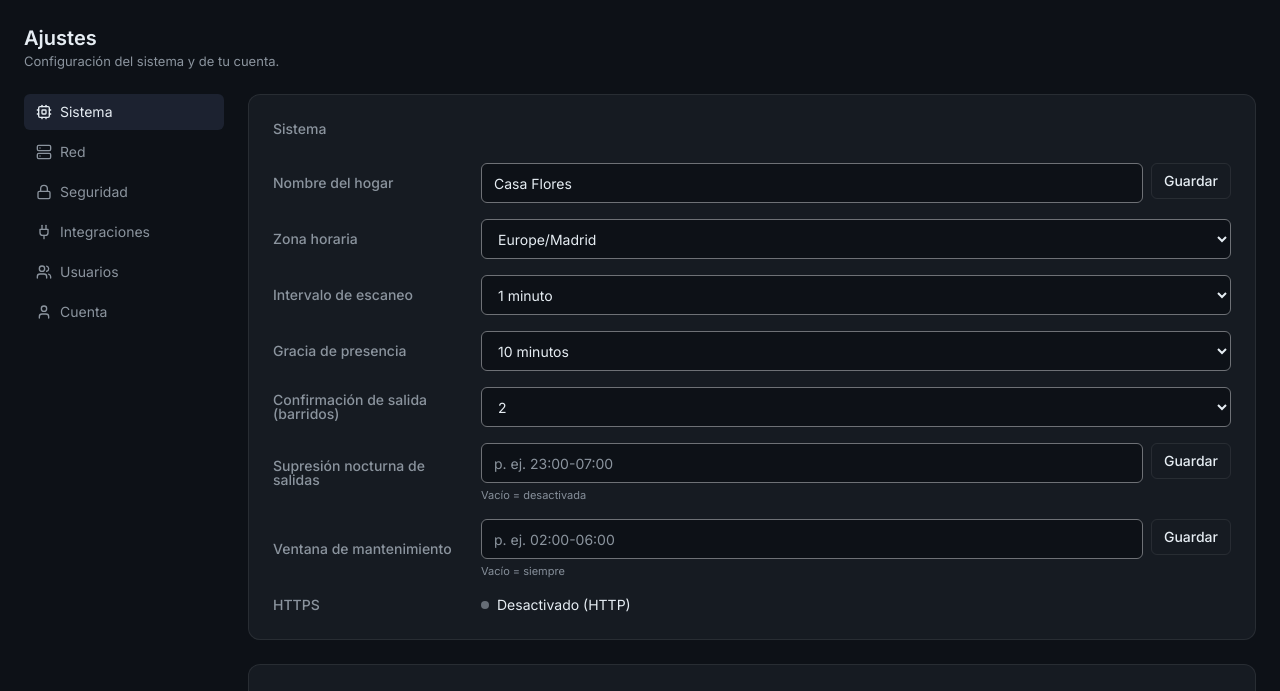
Scenario: SettingsPage › la sección Cuenta nombra el rol admin como «Administrador»
What coordinates should you click on to do the following:
click the button "Cuenta"
I would click on:
 (124, 312)
Its box is [24, 294, 224, 330].
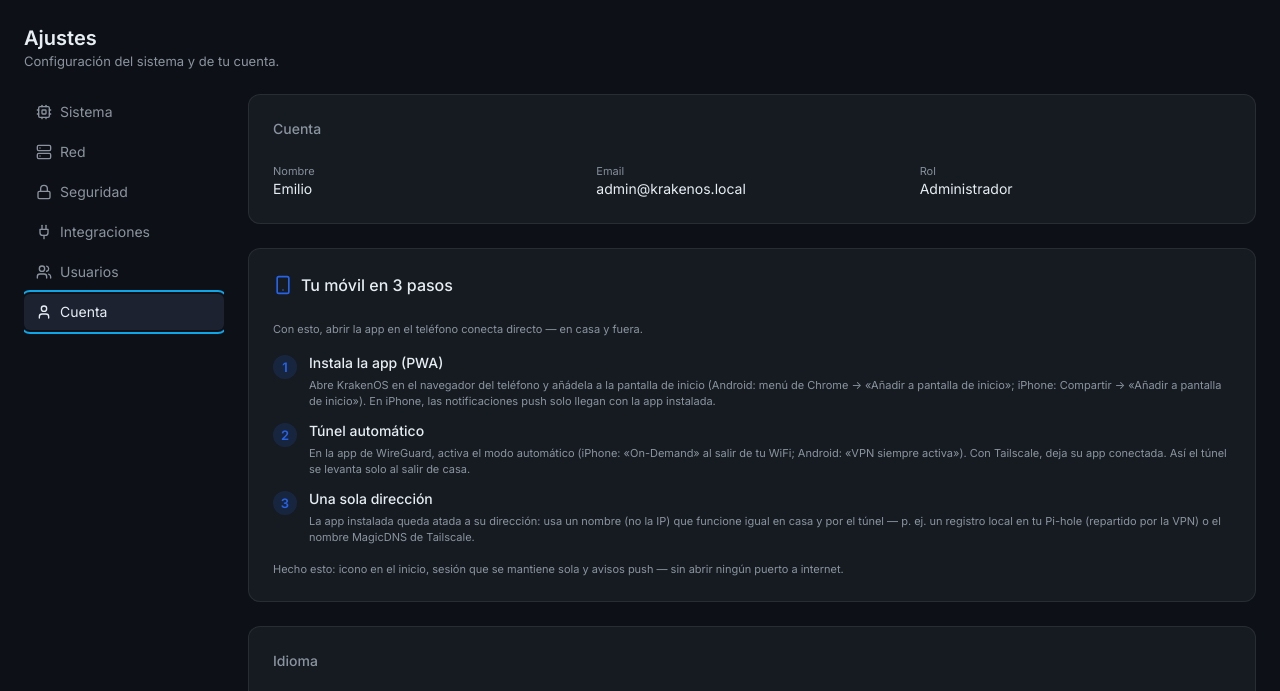
Result: the text "Administrador" is shown at [920, 180, 1013, 197]
